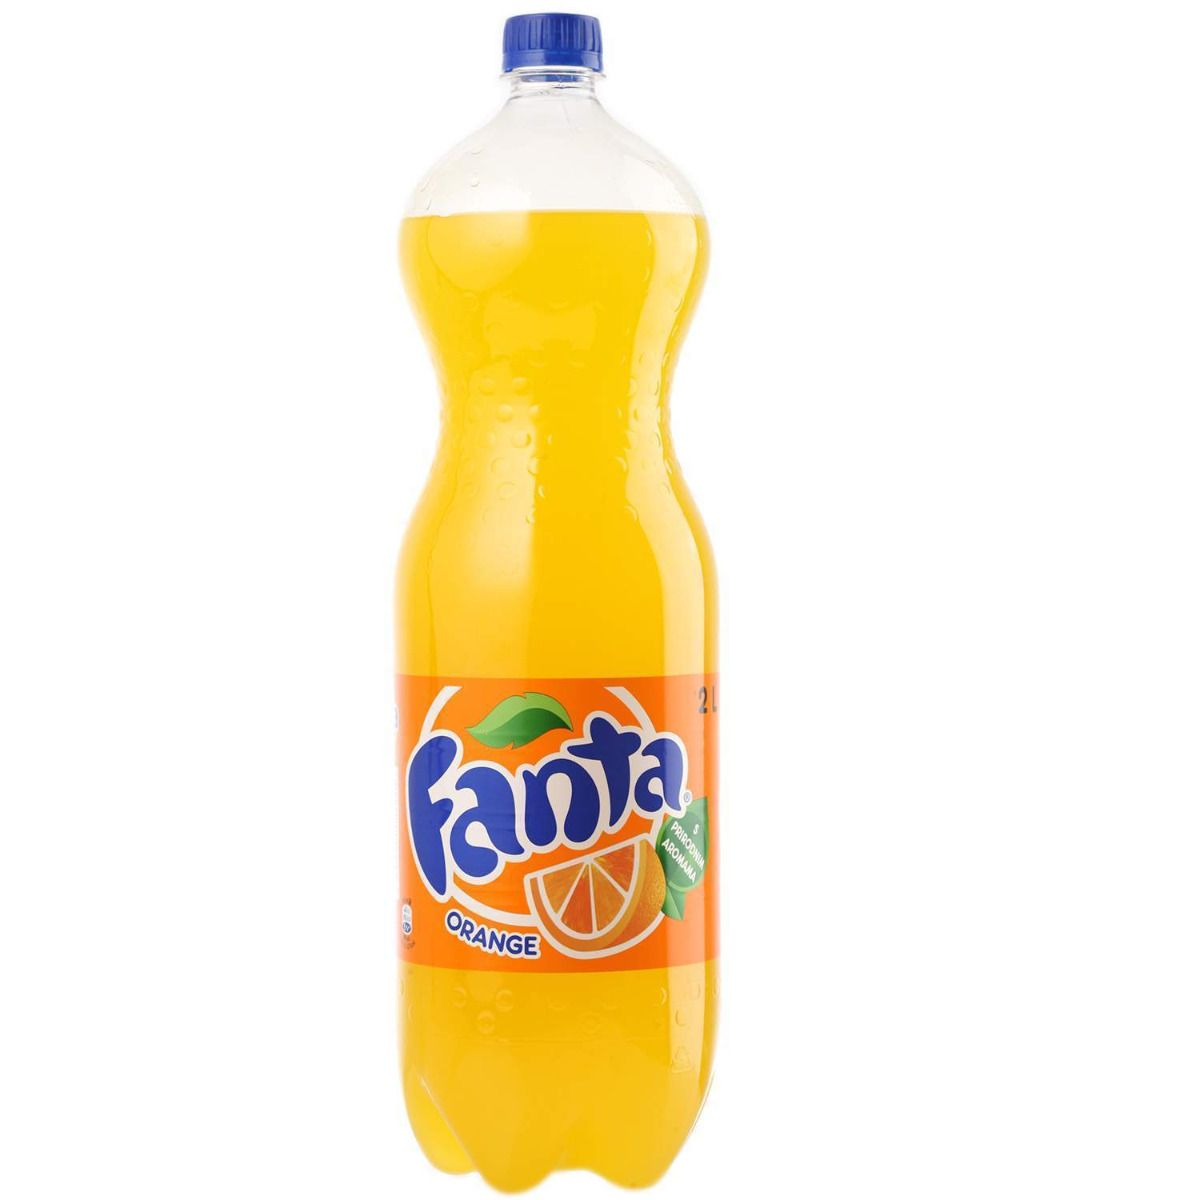Fanta: (375, 13, 727, 1195)
